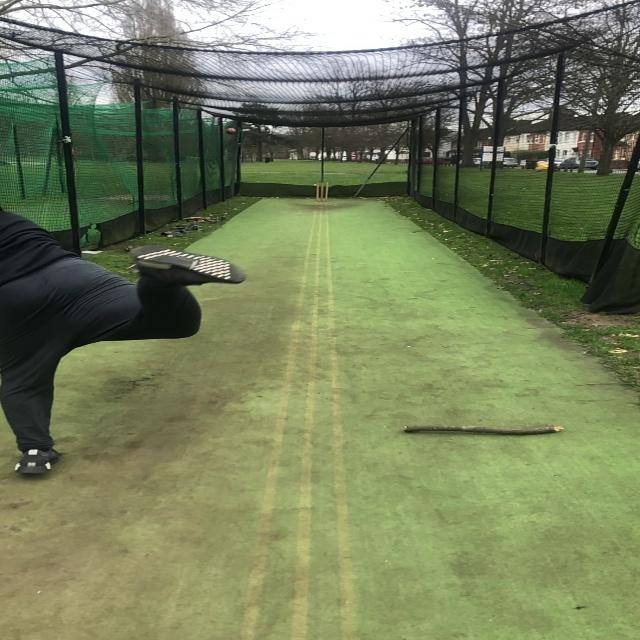ball: (225, 128, 237, 134)
